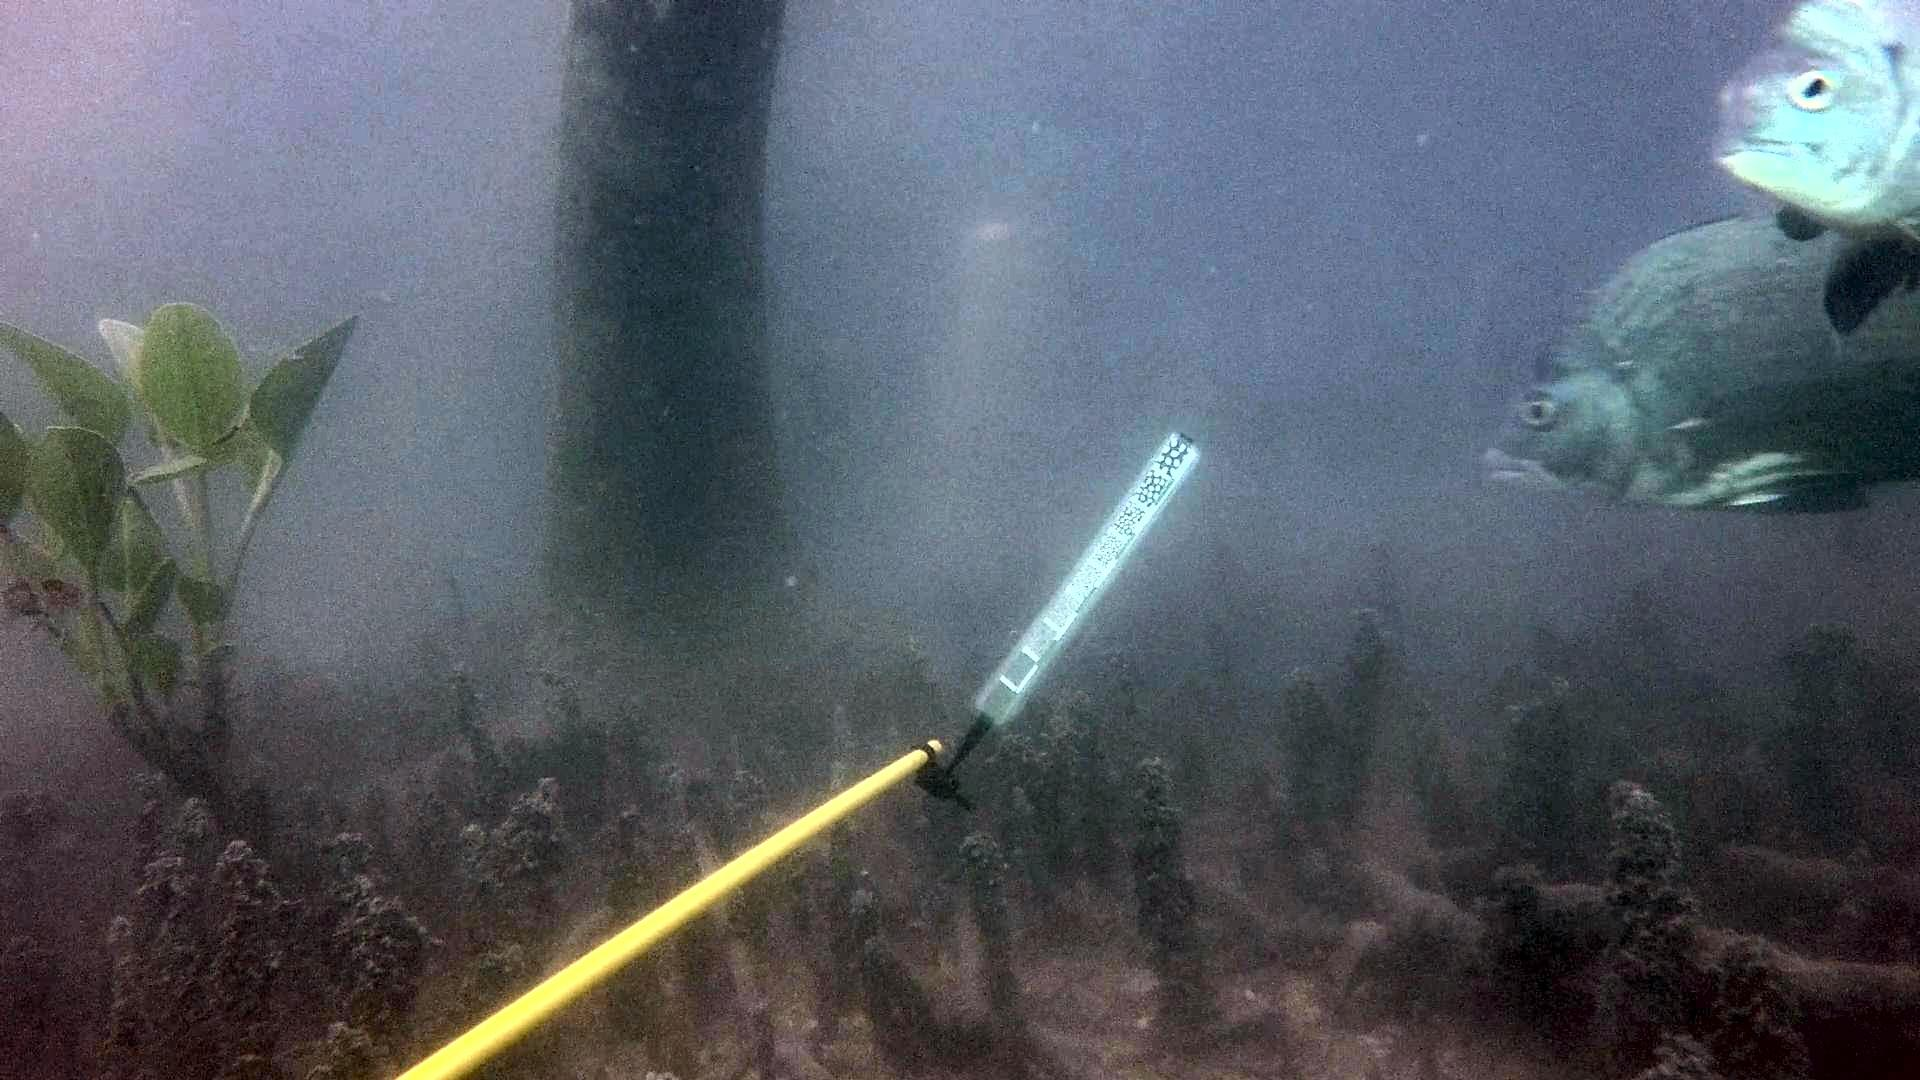acanthopagrus palmaris: (1468, 186, 1920, 530), (1681, 0, 1920, 345)
